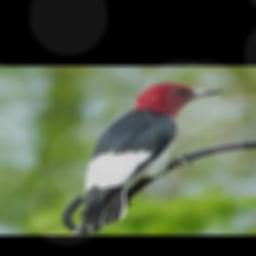Woodpecker: (69, 81, 226, 235)
